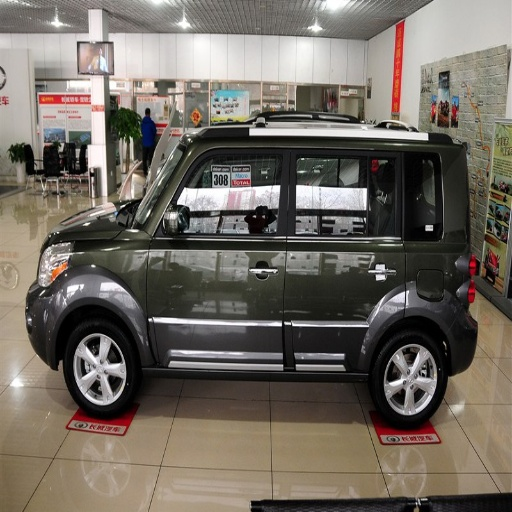back_left_door: (284, 153, 400, 363)
front_left_door: (147, 164, 288, 357)
